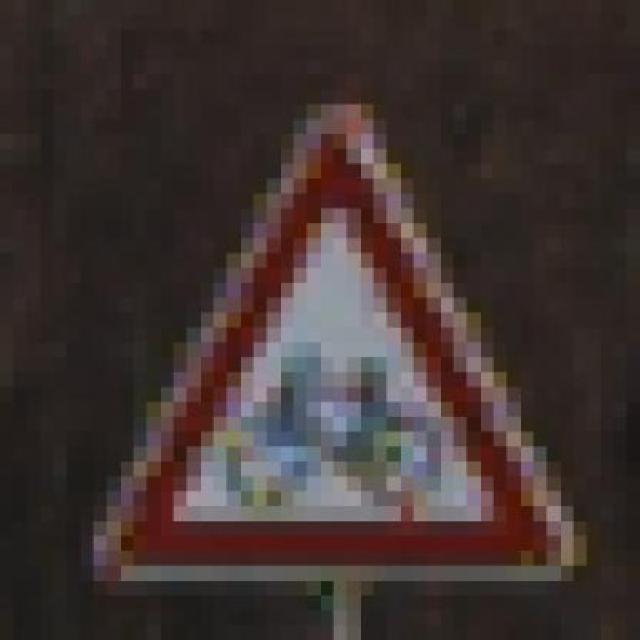CYCLE ROUTE AHEAD WARNING: (67, 104, 587, 596)
